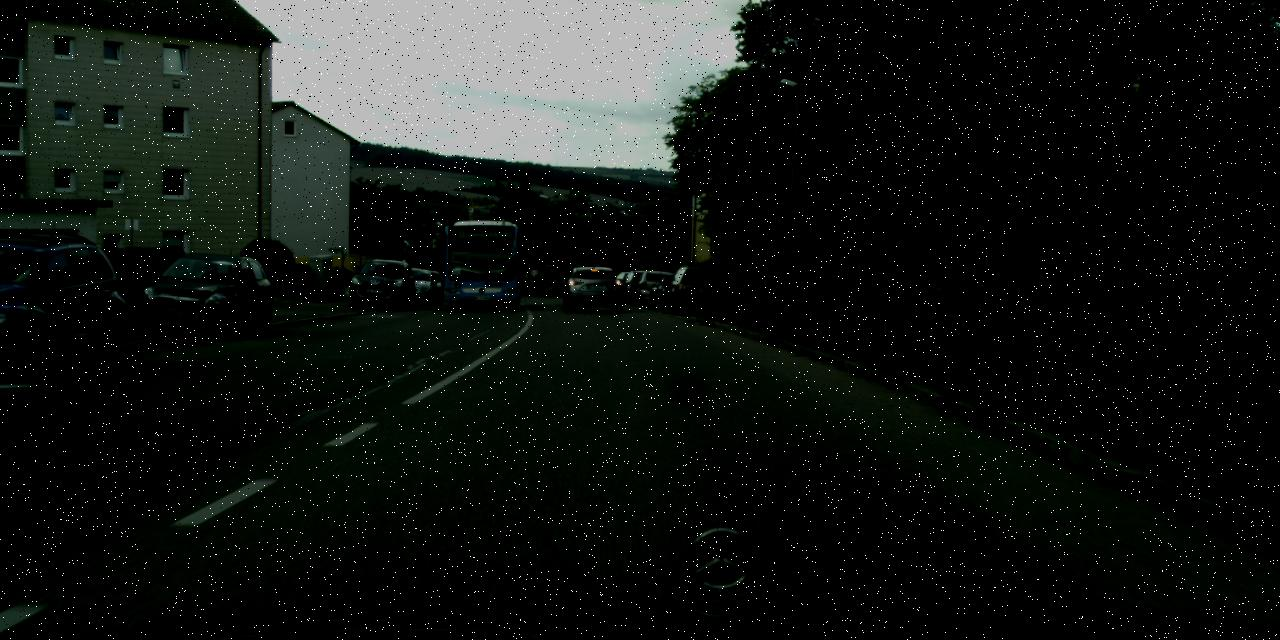ped: (351, 265, 361, 291)
